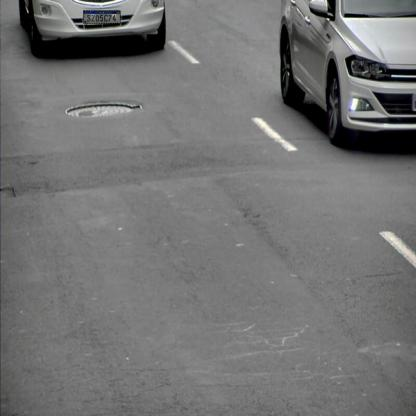PlacaM: (83, 10, 121, 24)
